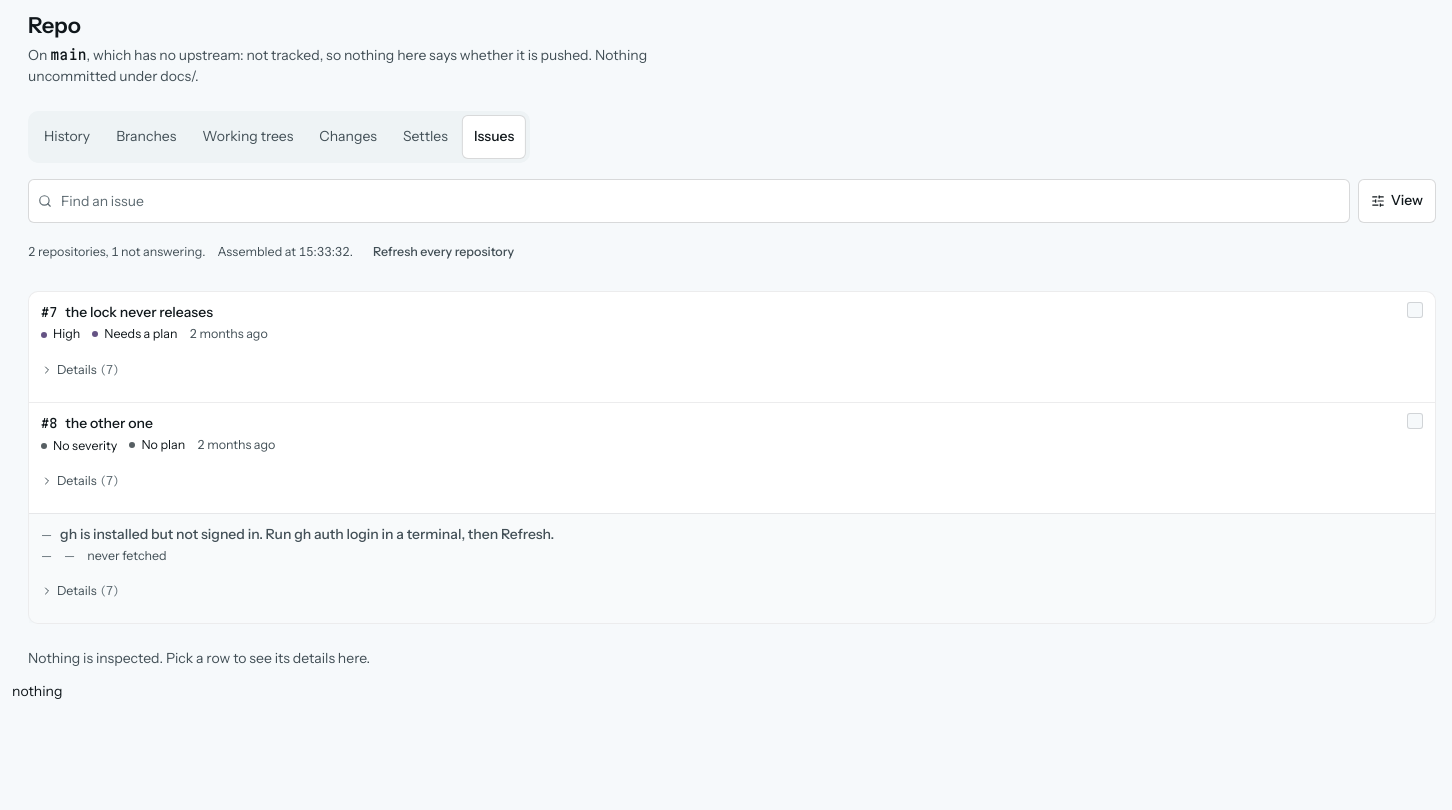
Test: the phone rendering › no column escapes a card: each is on it, or one press away in its fold
The width and height of the screenshot is (1452, 810).
Check: the text "#7" is shown, box [41,304,57,320]
Check: the link "the lock never releases" is shown, box [65,302,213,320]
Click the button "Details (7)" below "High" at point(80, 370), box [41,348,118,392]
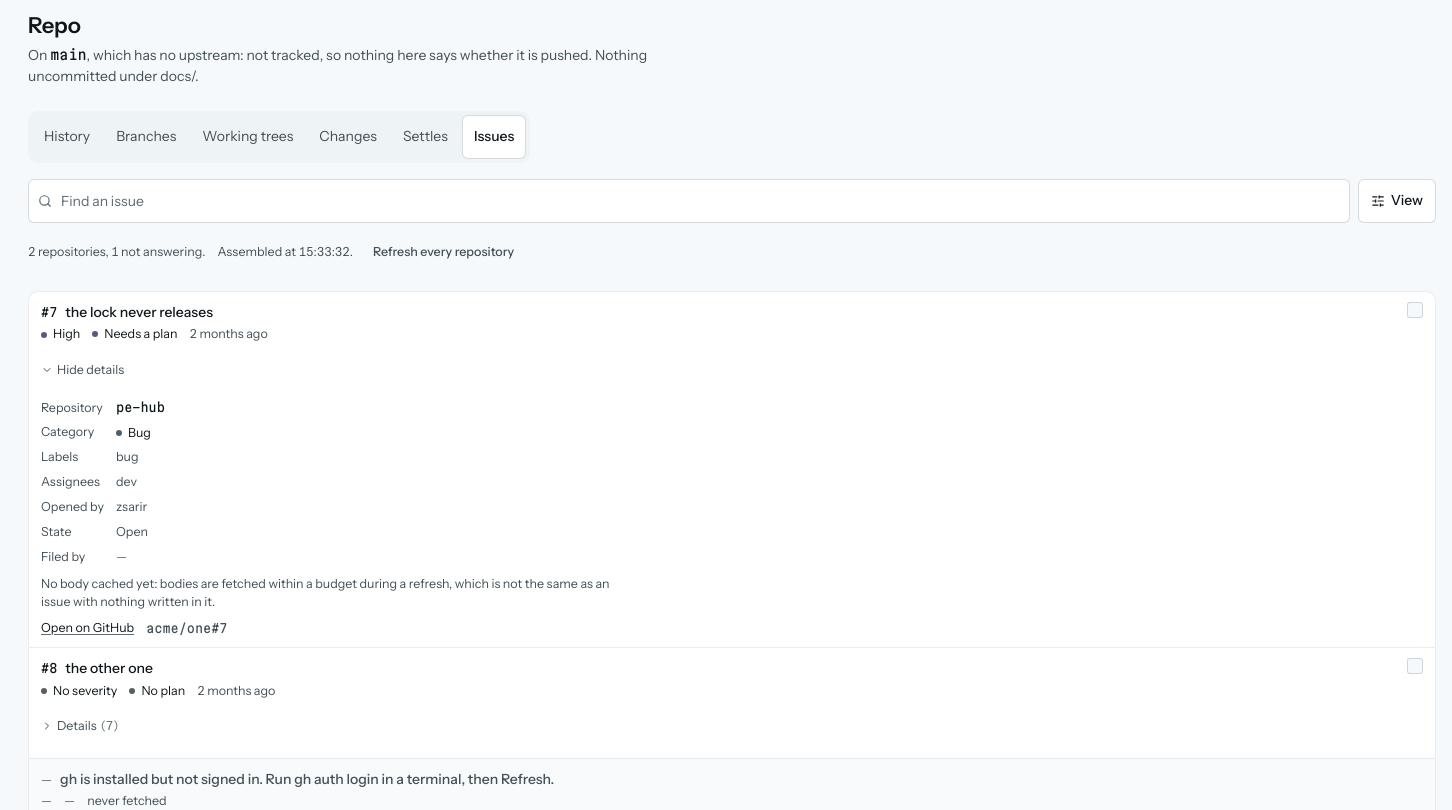
Check: the text "zsarir" is shown, box [116,499,147,514]
Check: the text "dev" is shown, box [116,474,137,489]
